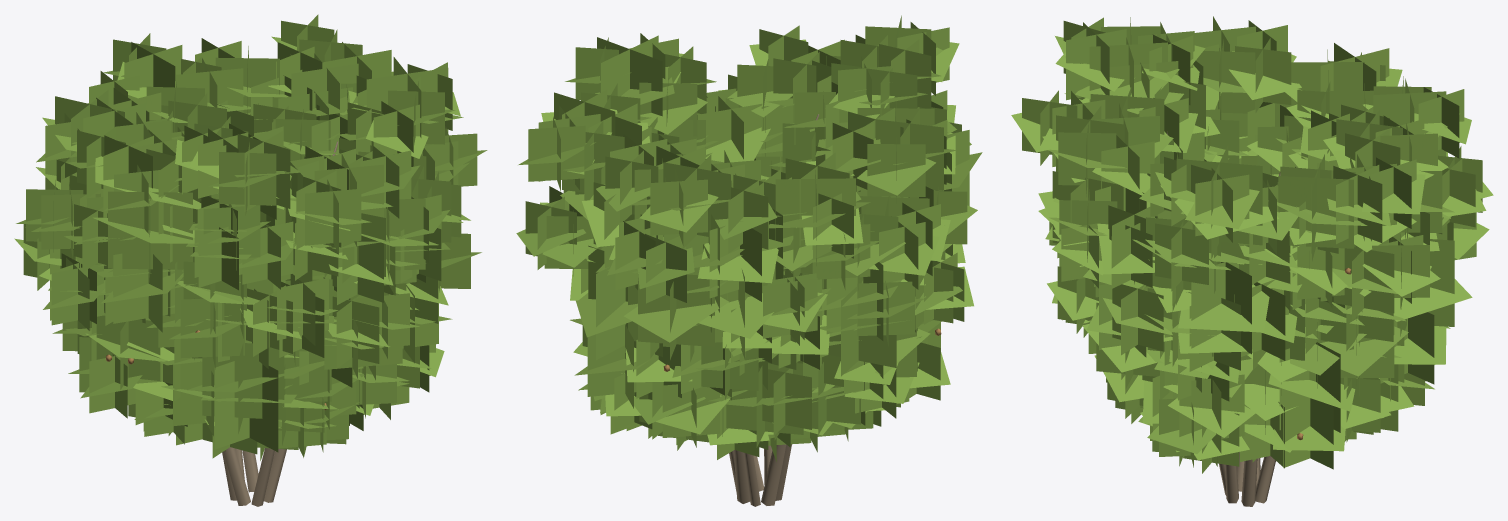
Rendered from noisetier_2_jeu.glb.
The picture shows the model from 3 angles, left to right: view 1: azimuth 30°, elevation 25°; view 2: azimuth 150°, elevation 25°; view 3: azimuth 270°, elevation 25°; orthographic projection.
Visible parts, largest first — view 1: Noisetier_T2_Leger; view 2: Noisetier_T2_Leger; view 3: Noisetier_T2_Leger.
Boxes of the visible parts, x1,y1,x2,y2 form: Noisetier_T2_Leger: (14,14,487,506); Noisetier_T2_Leger: (516,15,982,506); Noisetier_T2_Leger: (1011,16,1493,506).
Size of the model in its own units: 4.31 by 4.3 by 4.36.
